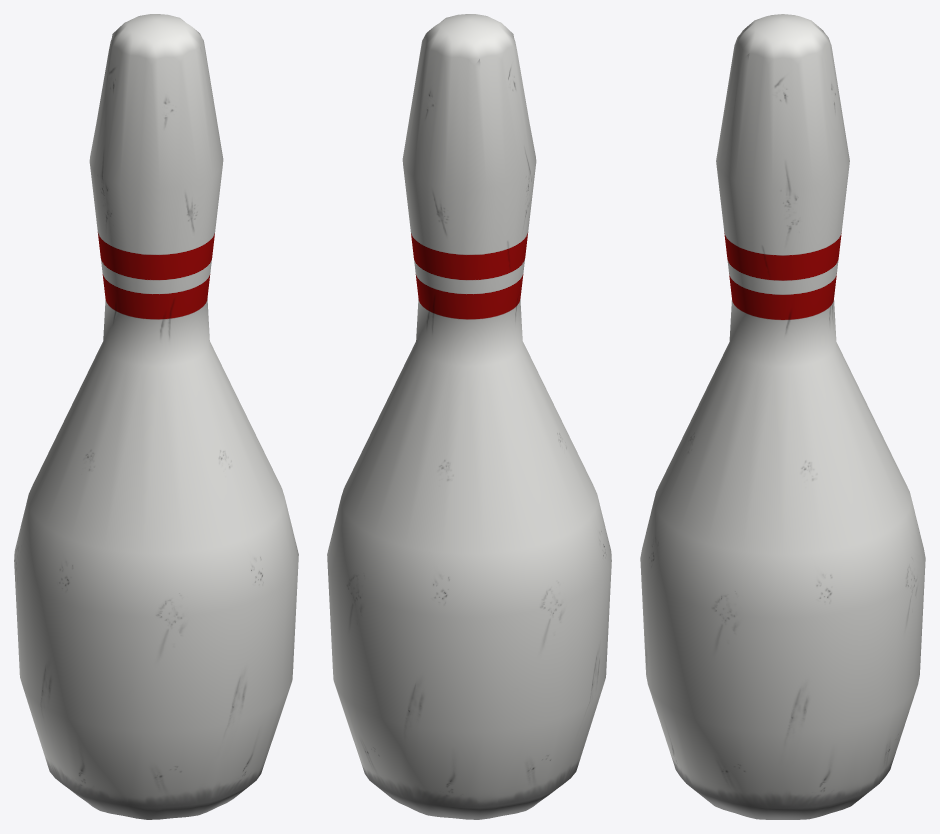
File: Bowling_pin.fbx
The picture shows the model from 3 angles, left to right: view 1: azimuth 30°, elevation 25°; view 2: azimuth 150°, elevation 25°; view 3: azimuth 270°, elevation 25°; orthographic projection.
Visible parts, largest first — view 1: pCylinder2; view 2: pCylinder2; view 3: pCylinder2.
Part boxes in pixels (x1=…): pCylinder2: x1=14, y1=14, x2=298, y2=819; pCylinder2: x1=327, y1=14, x2=611, y2=819; pCylinder2: x1=640, y1=14, x2=925, y2=819.
Bounding box in the file's own units: 1.25 × 3.71 × 1.25.
